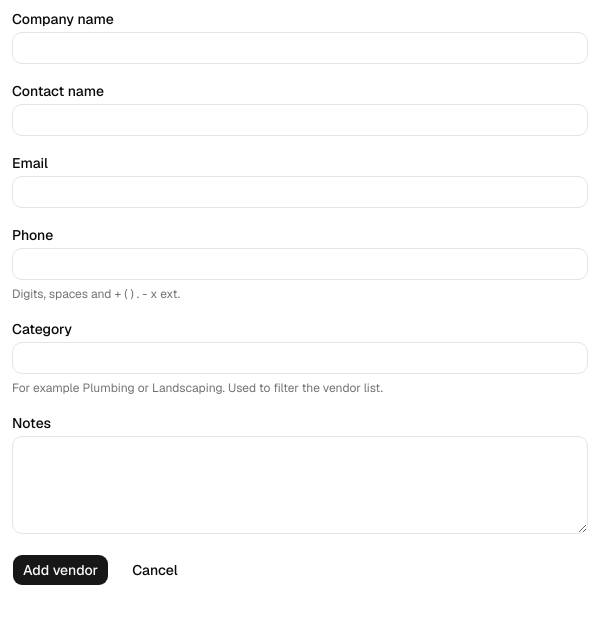
Scenario: VendorForm › maps server field errors onto fields
Type "Acme" into the field labelled "Company name".
click(300, 48); type("Acme")  # box left=12, top=32, right=588, bottom=64
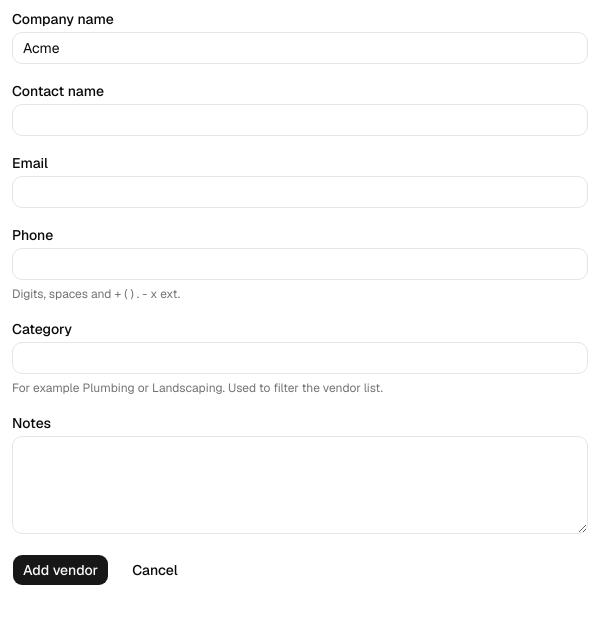
Click the button "Add vendor".
click(61, 570)  # box left=12, top=554, right=109, bottom=586
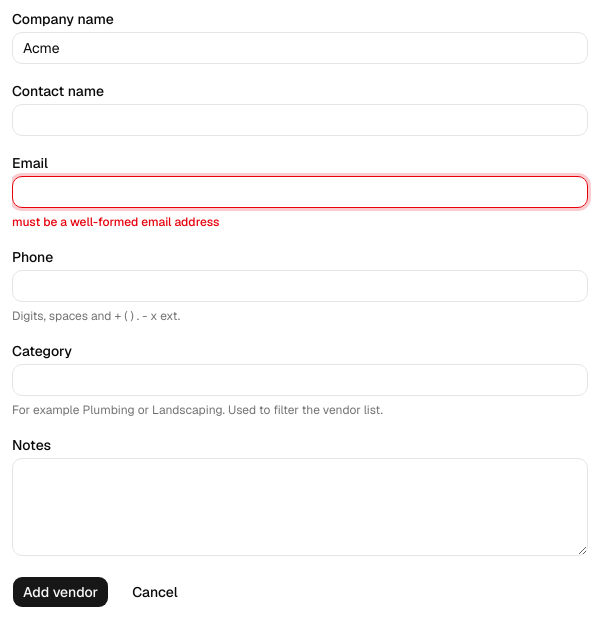
Check: the text "must be a well-formed email address" is shown, box left=12, top=214, right=220, bottom=230
